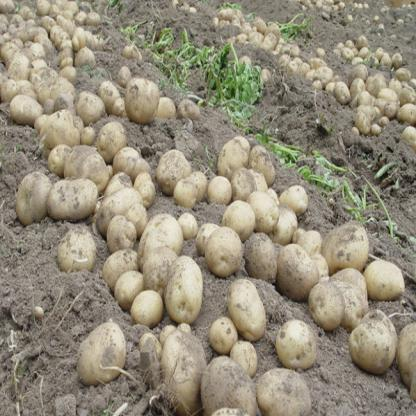potato: (151, 312, 212, 415), (72, 308, 130, 386), (340, 309, 400, 379), (134, 203, 184, 285), (304, 272, 354, 350), (158, 253, 210, 325), (121, 68, 170, 140), (314, 217, 370, 278), (42, 175, 104, 229), (54, 212, 100, 281), (230, 278, 270, 351), (258, 369, 318, 415), (275, 318, 318, 380), (270, 233, 312, 296), (356, 254, 408, 302), (149, 136, 190, 190), (205, 371, 251, 415), (247, 232, 284, 284), (211, 224, 245, 277), (226, 336, 260, 384), (215, 310, 238, 350)
